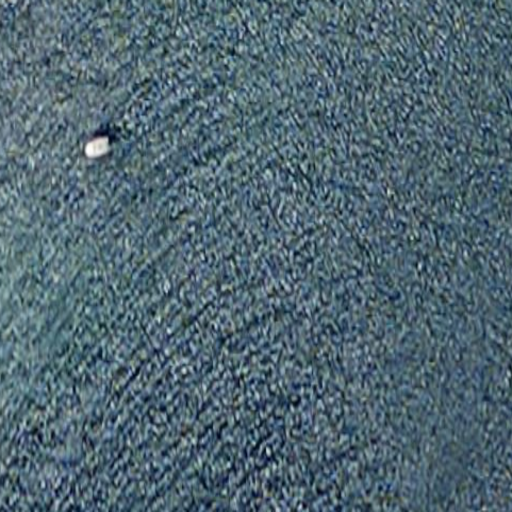ship: (82, 134, 113, 159)
